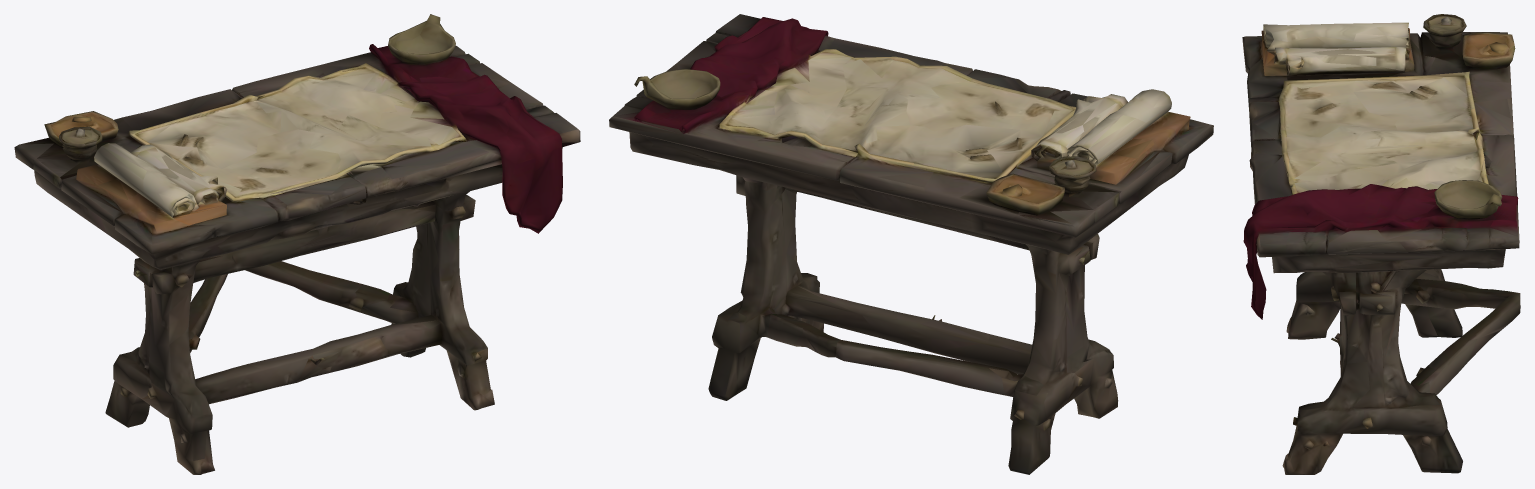
File: command-table.glb
3 renders of one model, left to right at view 1: azimuth 30°, elevation 25°; view 2: azimuth 150°, elevation 25°; view 3: azimuth 270°, elevation 25°, orthographic. The views are drawn at different scales.
Visible parts, largest first — view 1: tripo_node_cf48fbd6-e4a0-4cf3-9c19-5be52457a590; view 2: tripo_node_cf48fbd6-e4a0-4cf3-9c19-5be52457a590; view 3: tripo_node_cf48fbd6-e4a0-4cf3-9c19-5be52457a590.
Boxes of the visible parts, left/top/right/bottom form: tripo_node_cf48fbd6-e4a0-4cf3-9c19-5be52457a590: left=14, top=14, right=580, bottom=474; tripo_node_cf48fbd6-e4a0-4cf3-9c19-5be52457a590: left=609, top=14, right=1213, bottom=474; tripo_node_cf48fbd6-e4a0-4cf3-9c19-5be52457a590: left=1242, top=14, right=1520, bottom=474.
Bounding box in the file's own units: 1.52 × 1 × 0.8349.
1 material, 1 textured.
